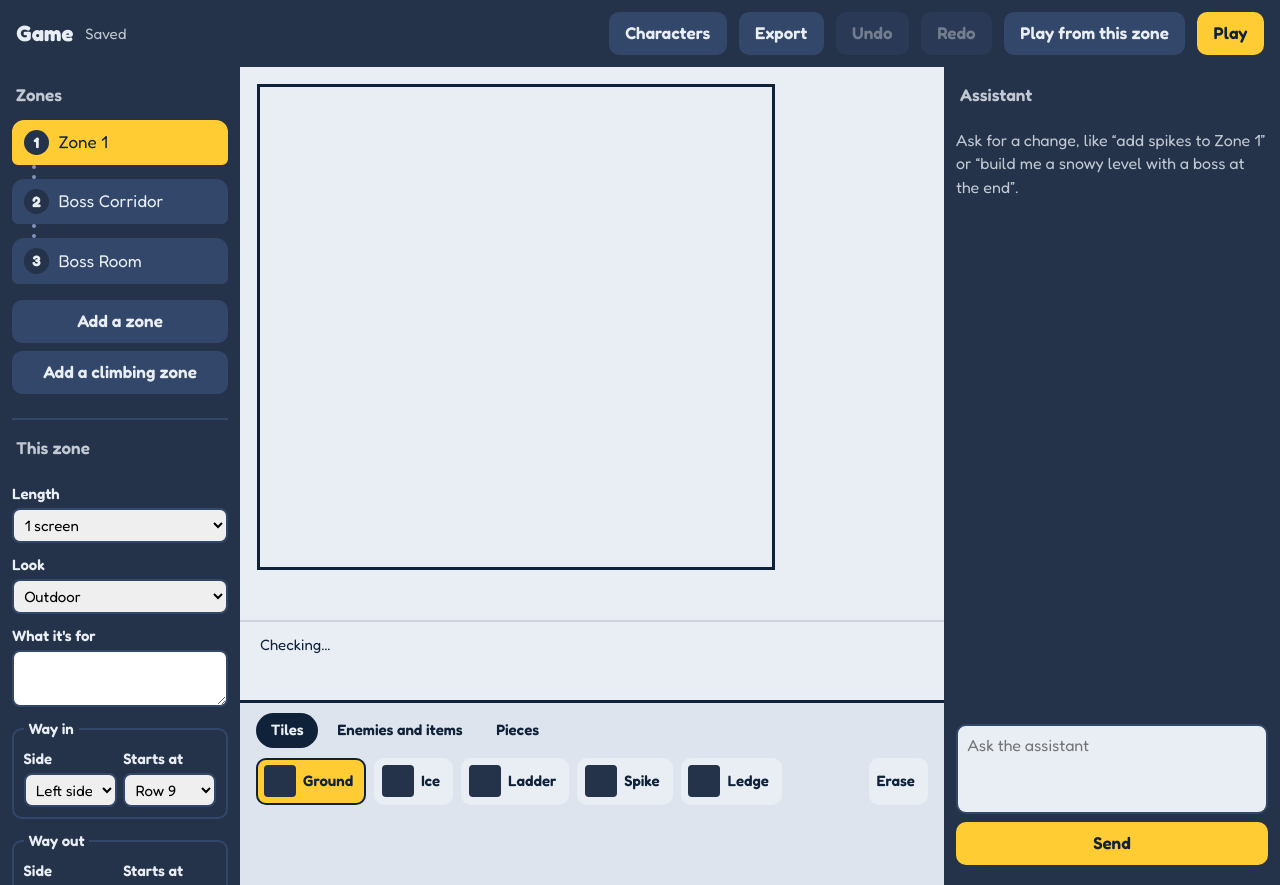
Scenario: the assistant in the editor › asks, shows the reply, saves the chat, and undoes the whole turn in one step
This screenshot has width=1280, height=885.
Type "Add spikes" into the text box named "Message". click: point(1112, 769)
box: [956,724,1268,814]
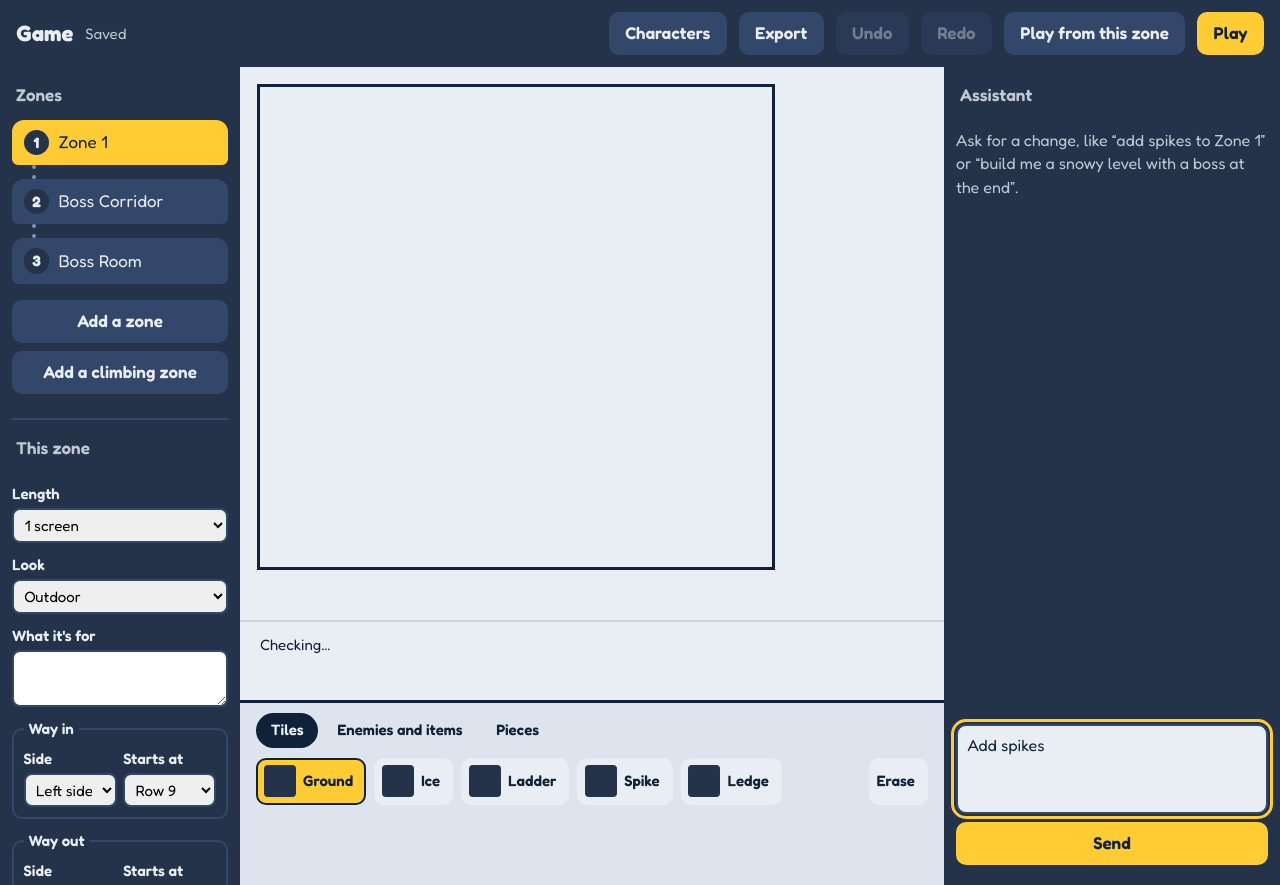
Click the button "Send". click: point(1112, 843)
box: [956,822,1268,865]
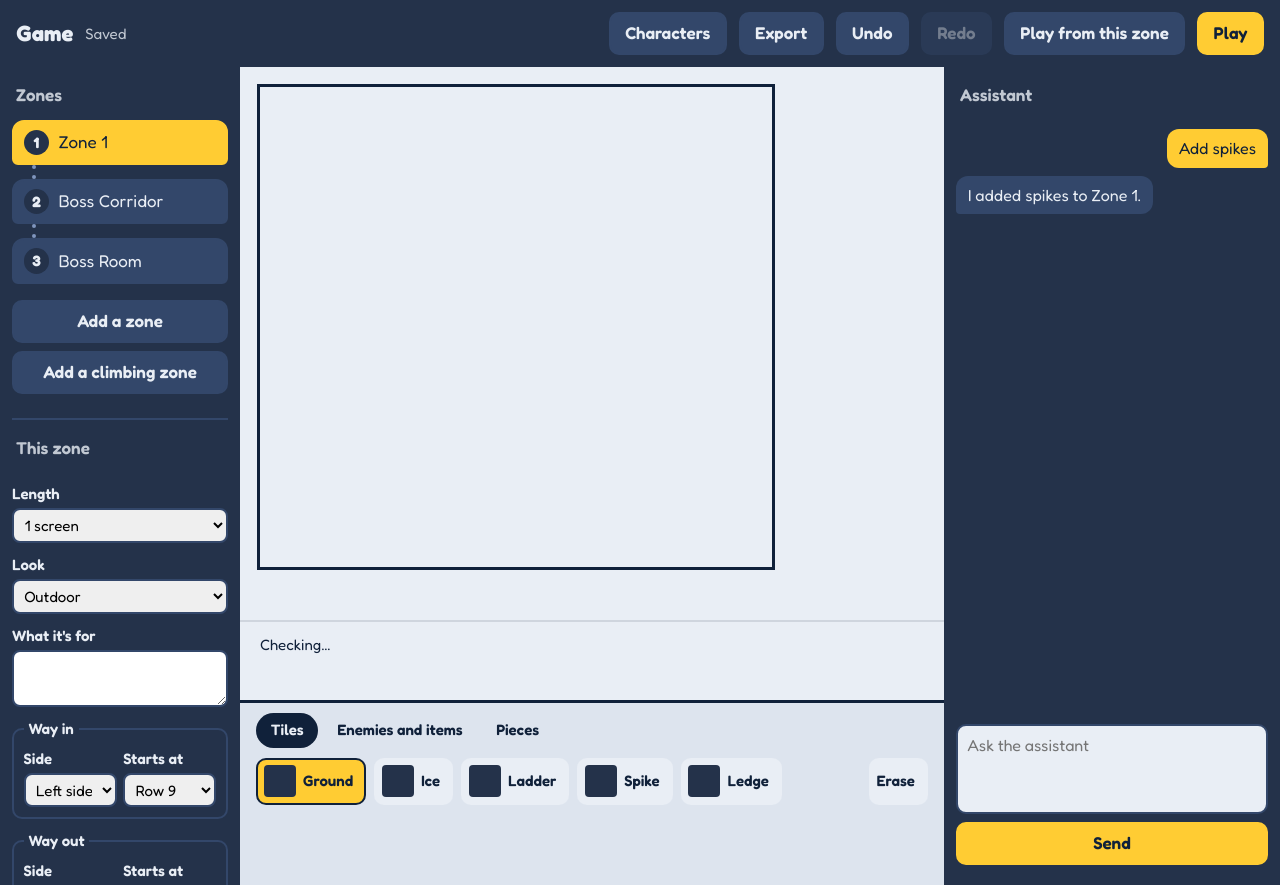
Expected: the list item "Add spikes" is shown, [1167,129,1268,168]
Result: the list item "I added spikes to Zone 1." is shown at [956,176,1153,214]
Click the button "Undo". click: point(872, 34)
box: [836,12,909,55]
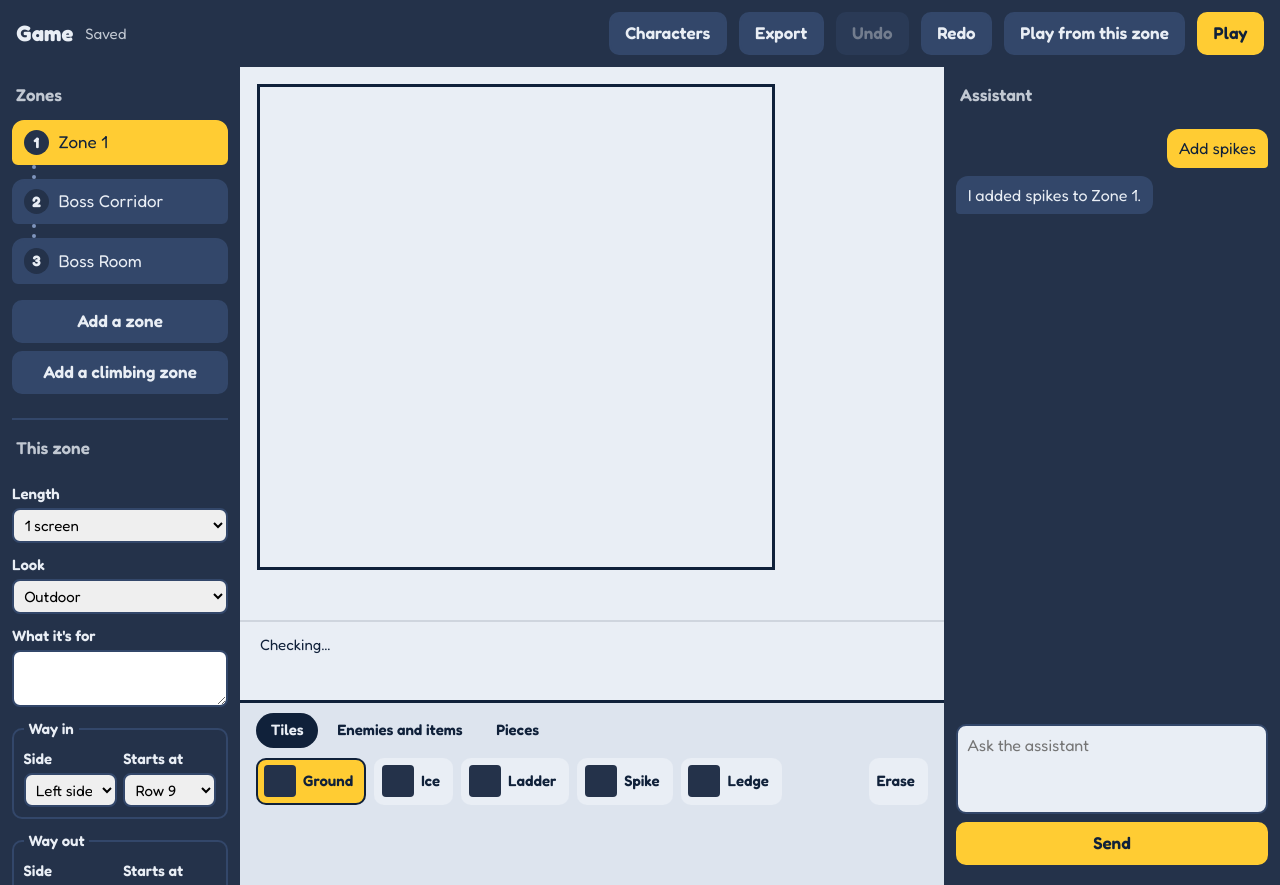
Result: the button "Undo" is disabled at [836,12,909,55]
